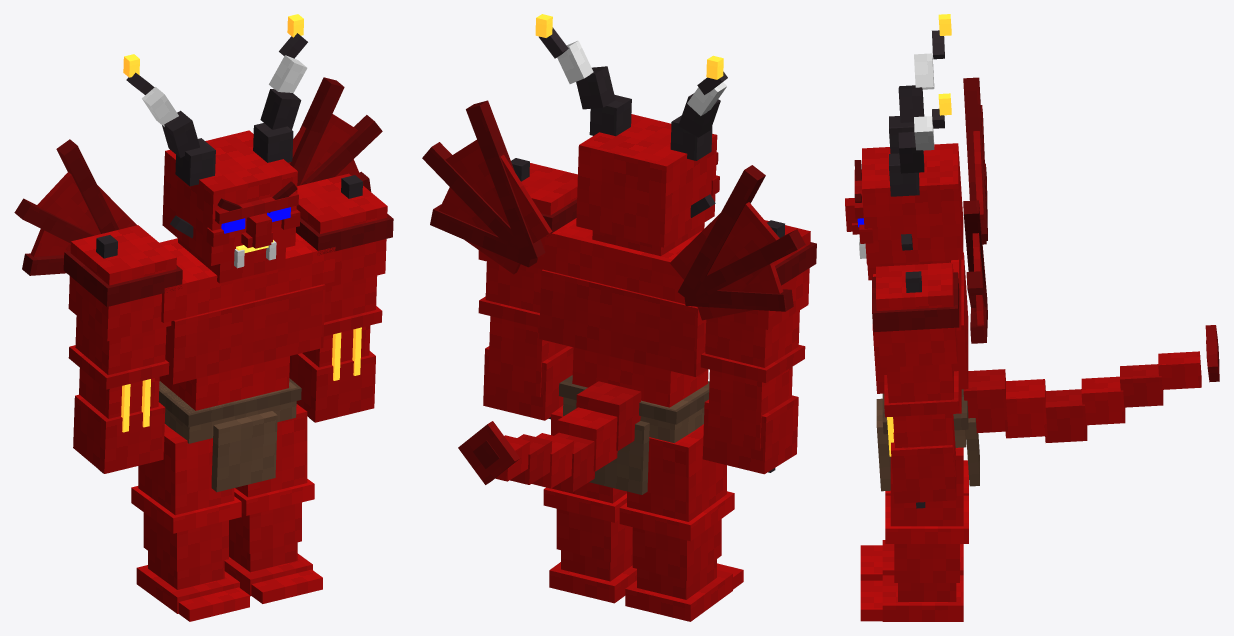
File: demon_s1_evo1.glb
The picture shows the model from 3 angles, left to right: view 1: azimuth 30°, elevation 25°; view 2: azimuth 150°, elevation 25°; view 3: azimuth 270°, elevation 25°; orthographic projection. The views are drawn at different scales.
Parts seen in each view (by area): view 1: Torso, Head, ArmR, ArmL, LegR, LegL; view 2: Torso, Head, ArmR, LegR, ArmL, LegL; view 3: Torso, ArmL, Head, LegL, LegR.
Boxes of the visible parts, x1,y1,x2,y2 form: Torso: (14, 77, 382, 492); Head: (123, 14, 307, 283); ArmR: (63, 225, 182, 473); ArmL: (289, 173, 393, 422); LegR: (131, 424, 249, 621); LegL: (224, 404, 322, 603); Torso: (422, 100, 805, 494); Head: (535, 14, 727, 256); ArmR: (700, 220, 816, 474); LegR: (619, 424, 743, 621); ArmL: (478, 158, 577, 420); LegL: (543, 405, 636, 603); Torso: (872, 77, 1219, 491); ArmL: (872, 262, 959, 508); Head: (845, 14, 963, 280); LegL: (860, 447, 968, 621); LegR: (860, 460, 968, 580).
Size of the model in its own units: 1.58 by 2.25 by 1.44.
Materials: 29 (29 with a texture image).
